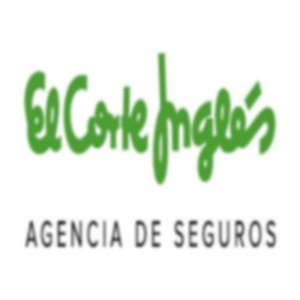corte_ingles: (265, 33, 288, 99)
